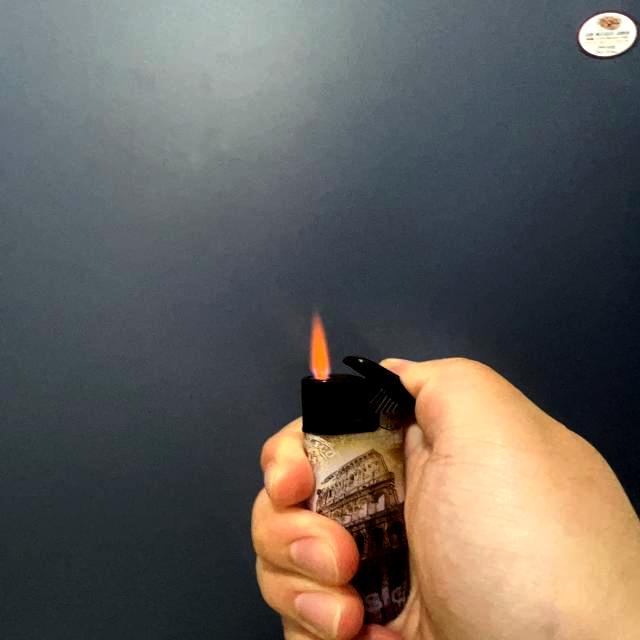fire: (307, 310, 333, 380)
